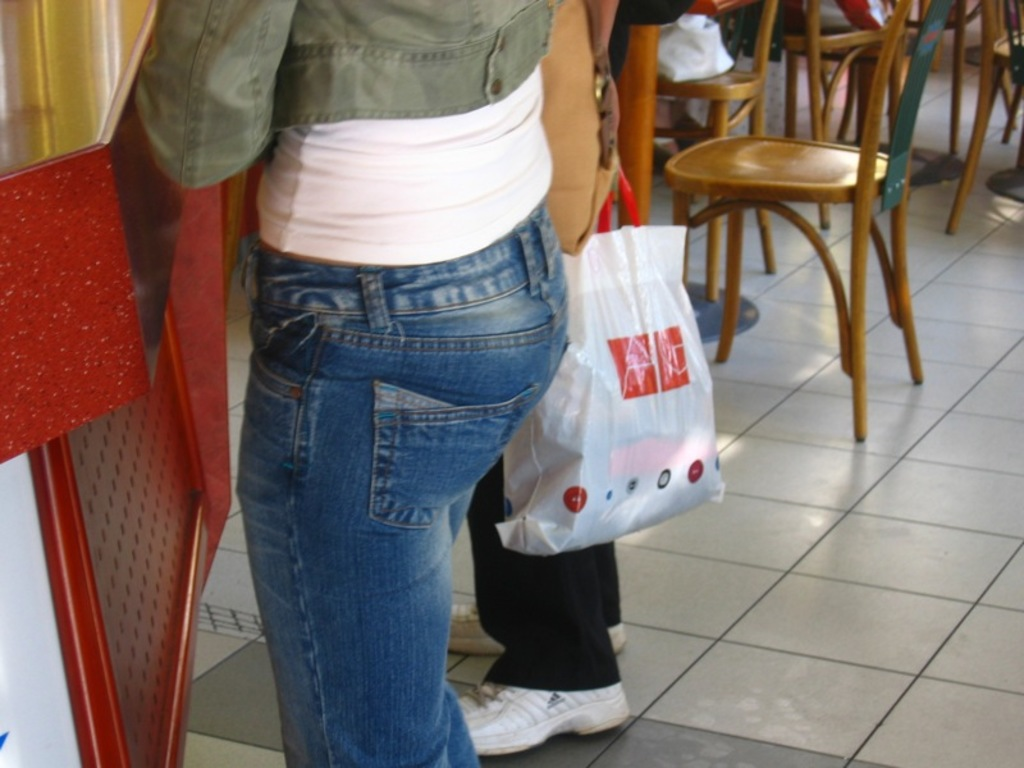Chair: (675, 19, 964, 462), (650, 0, 774, 285), (773, 0, 904, 228), (942, 0, 1023, 234)
